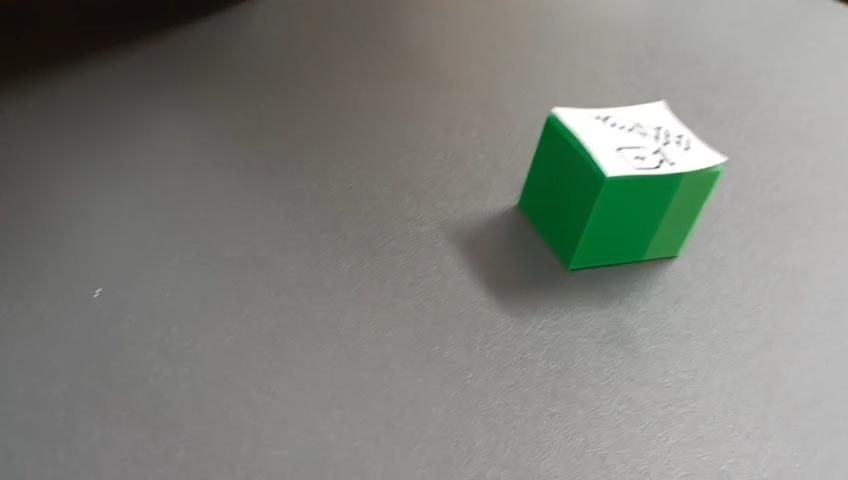antiseptic cream: (515, 97, 728, 272)
